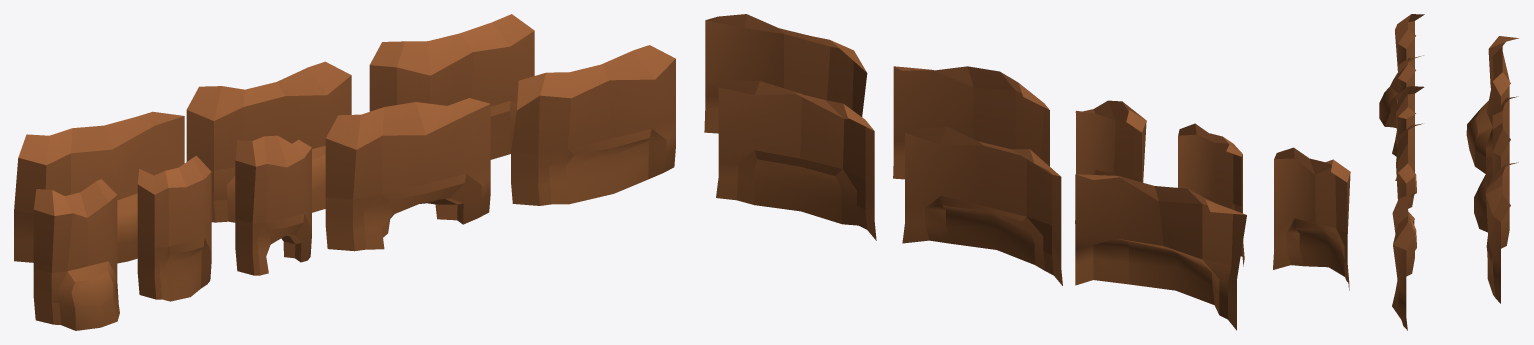
File: CliffFace.fbx
3 renders of one model, left to right at view 1: azimuth 30°, elevation 25°; view 2: azimuth 150°, elevation 25°; view 3: azimuth 270°, elevation 25°, orthographic. The views are drawn at different scales.
Parts seen in each view (by area): view 1: Cliff2, Cliff6, Cliff1, Cliff, Cliff5, Cliff4, Cliff3, Cliff7; view 2: Cliff5, Cliff, Cliff1, Cliff6, Cliff2, Cliff4, Cliff7, Cliff3; view 3: Cliff, Cliff5, Cliff2, Cliff1, Cliff4, Cliff6, Cliff7, Cliff3.
Boxes of the visible parts, x1,y1,x2,y2 form: Cliff2: [511, 45, 675, 205]; Cliff6: [325, 98, 490, 251]; Cliff1: [186, 61, 351, 222]; Cliff: [14, 111, 184, 263]; Cliff5: [369, 14, 534, 159]; Cliff4: [33, 179, 119, 330]; Cliff3: [137, 155, 211, 301]; Cliff7: [235, 135, 311, 275]; Cliff5: [716, 80, 876, 240]; Cliff: [1075, 174, 1246, 330]; Cliff1: [902, 126, 1062, 285]; Cliff6: [893, 66, 1049, 179]; Cliff2: [704, 14, 867, 133]; Cliff4: [1273, 147, 1350, 290]; Cliff7: [1075, 100, 1146, 223]; Cliff3: [1178, 123, 1244, 266]; Cliff: [1466, 36, 1518, 173]; Cliff5: [1485, 162, 1518, 303]; Cliff2: [1392, 191, 1416, 330]; Cliff1: [1474, 96, 1518, 232]; Cliff4: [1379, 14, 1424, 127]; Cliff6: [1396, 123, 1422, 250]; Cliff7: [1395, 86, 1424, 194]; Cliff3: [1392, 55, 1423, 156].
Size of the model in its own units: 7190 by 1446 by 1860.
